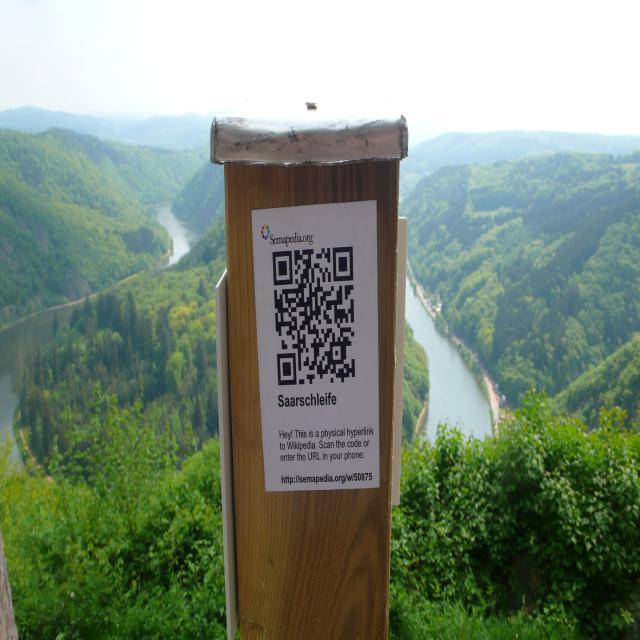qrcode: (273, 248, 356, 386)
